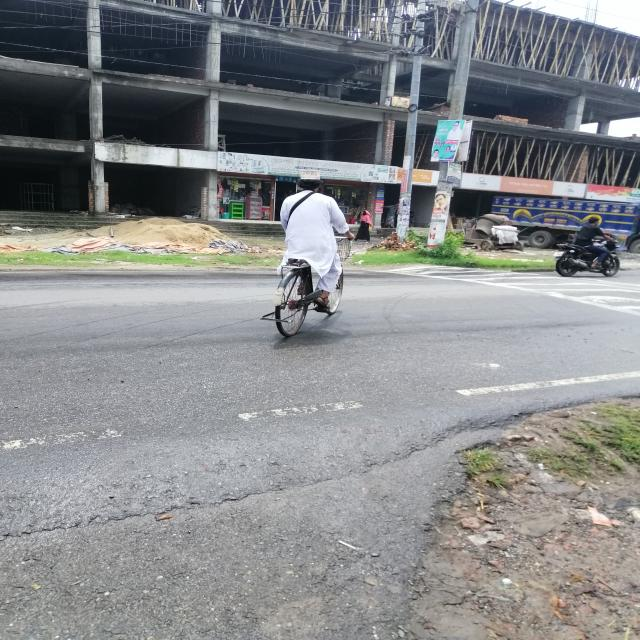Bicycle: (253, 229, 367, 343)
Motorbike: (545, 232, 630, 287)
